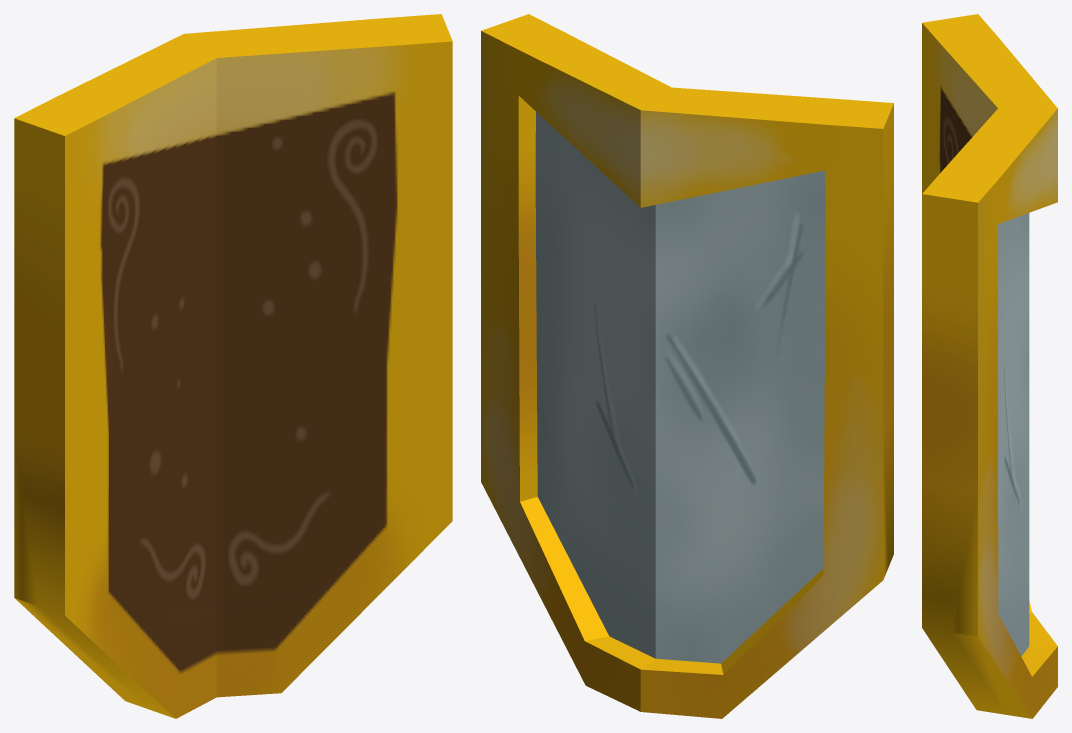
File: knight-shield-updated.FBX
The picture shows the model from 3 angles, left to right: view 1: azimuth 30°, elevation 25°; view 2: azimuth 150°, elevation 25°; view 3: azimuth 270°, elevation 25°; orthographic projection. The views are drawn at different scales.
Parts seen in each view (by area): view 1: pCube9; view 2: pCube9; view 3: pCube9.
Boxes of the visible parts, x1,y1,x2,y2 form: pCube9: [14, 14, 452, 718]; pCube9: [481, 14, 893, 718]; pCube9: [922, 14, 1057, 718].
Bounding box in the file's own units: 35.12 × 50.19 × 10.68.
1 material, 1 textured.
